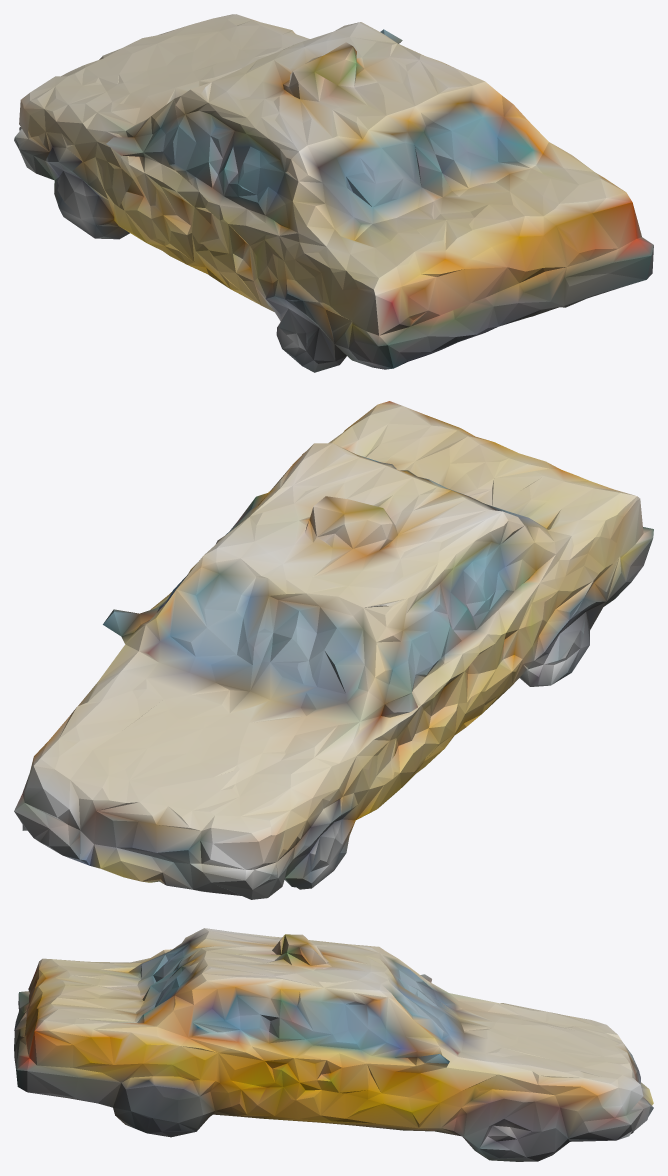
File: taxi.glb
The picture shows the model from 3 angles, top to bottom: view 1: azimuth 30°, elevation 25°; view 2: azimuth 150°, elevation 25°; view 3: azimuth 270°, elevation 25°; orthographic projection. The views are drawn at different scales.
Visible parts, largest first — view 1: world; view 2: world; view 3: world.
Boxes of the visible parts, box(x1,y1,x2,y2) form: world: box(14, 14, 653, 372); world: box(14, 401, 653, 899); world: box(14, 928, 653, 1161).
Size of the model in its own units: 1.95 by 1.55 by 4.55.
